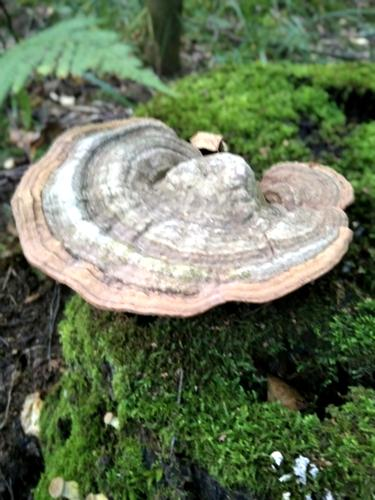Ganoderma - Fruit Body: (4, 118, 355, 321)
